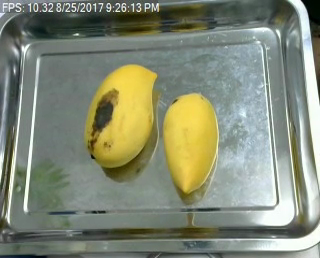Mango: (84, 61, 159, 167), (163, 89, 219, 194)
